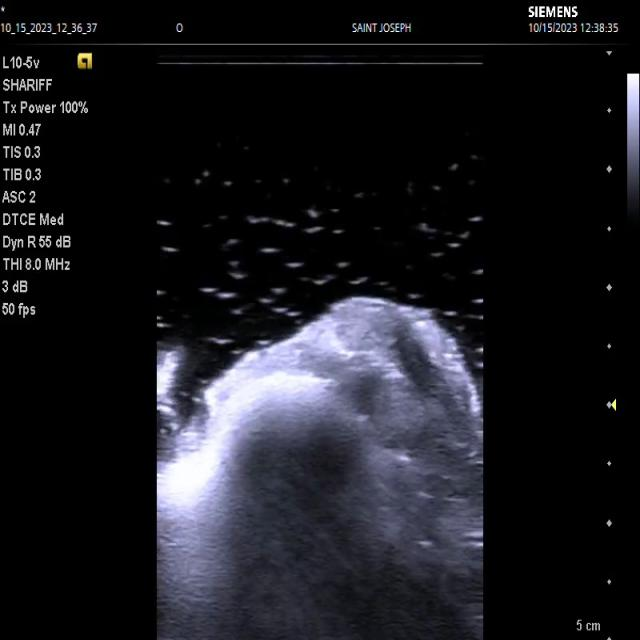tissue: (156, 298, 483, 640), (158, 341, 183, 419)
